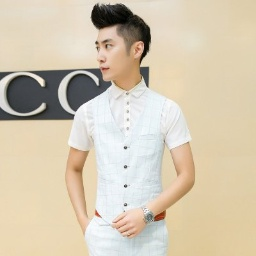face: (88, 2, 152, 82)
